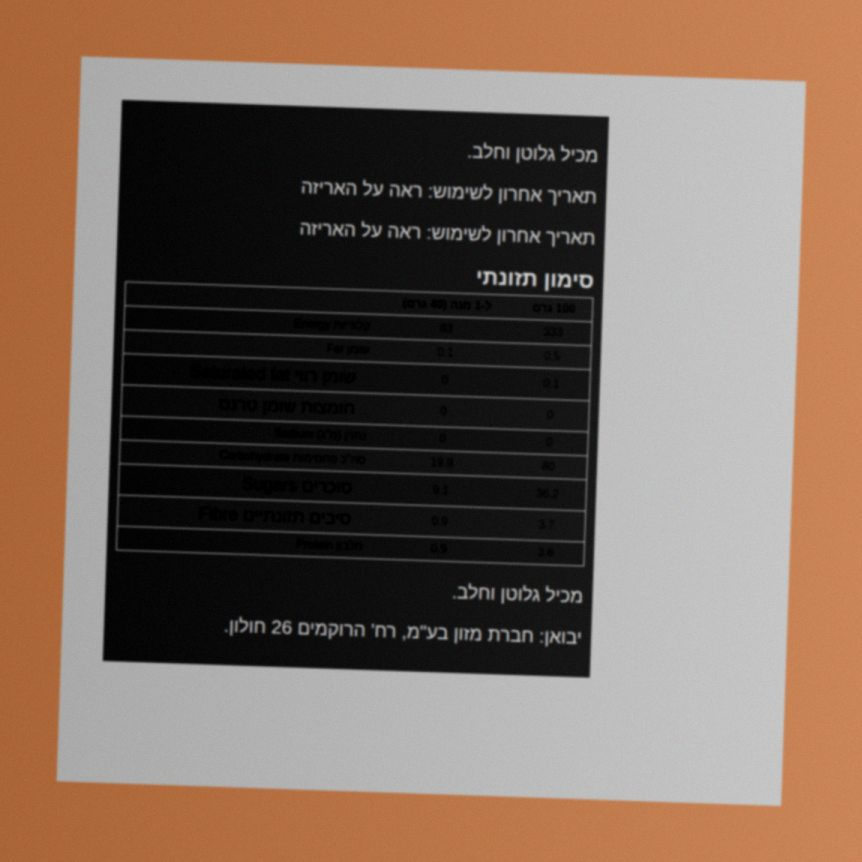carbs: (540, 458, 557, 474)
energy: (542, 324, 564, 340)
fat: (542, 348, 562, 364)
protein: (536, 544, 555, 560)
